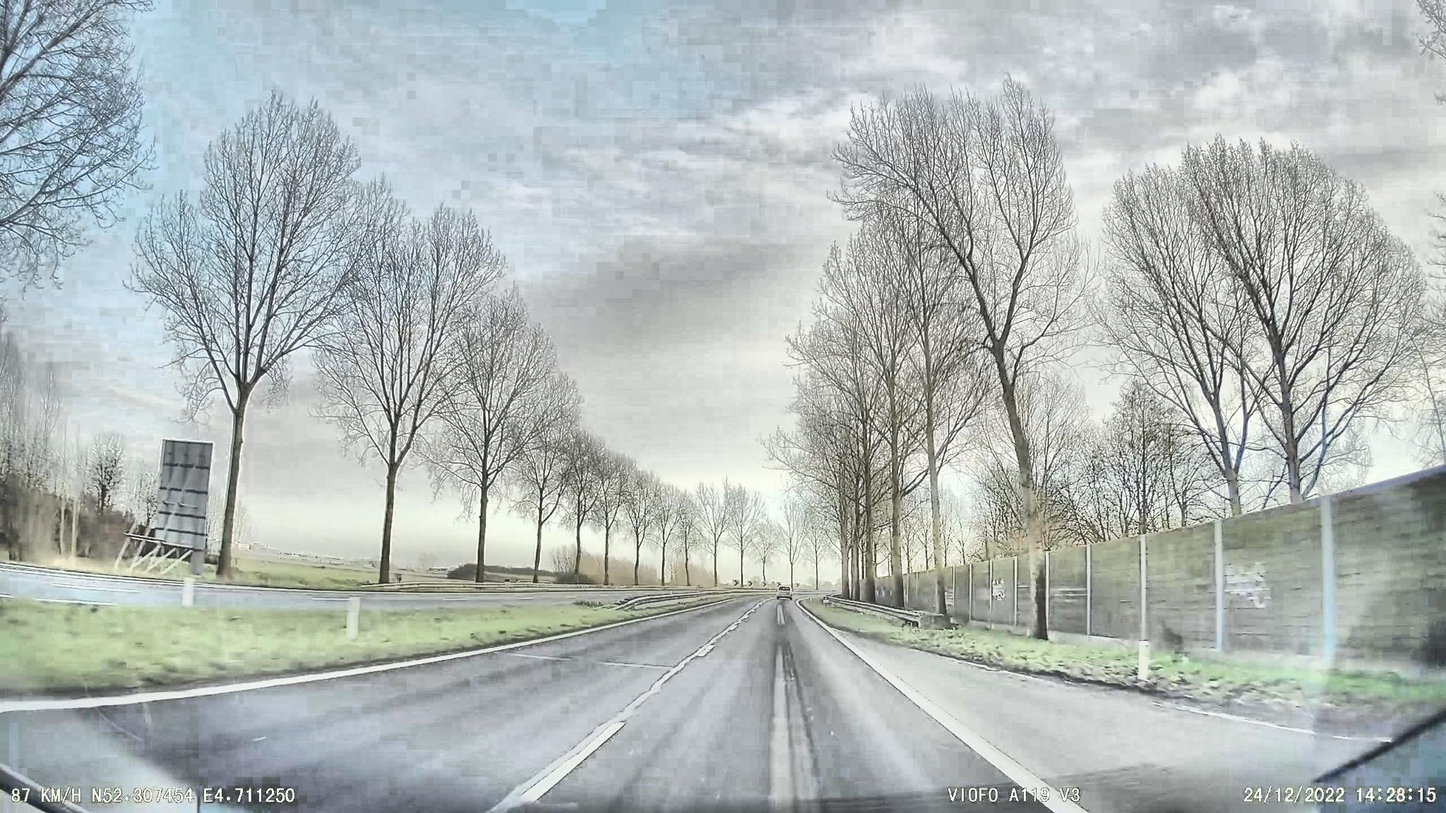Roads: (0, 600, 1446, 813)
